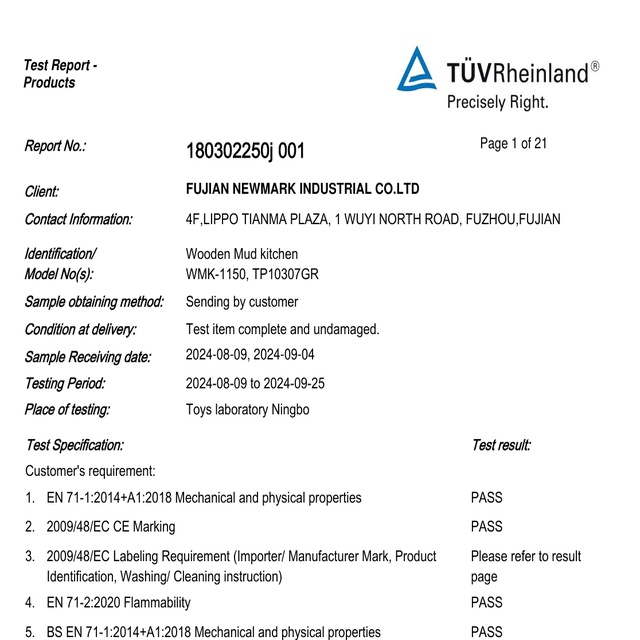tuv_rheinland: (395, 42, 602, 115)
